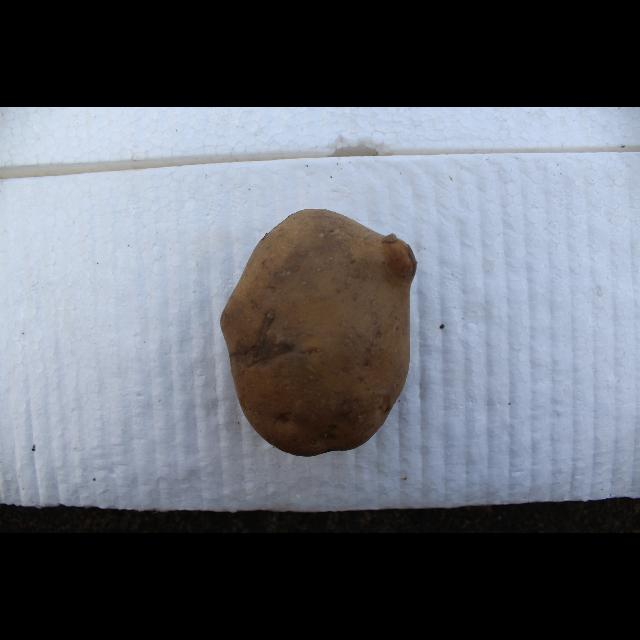Diseased-fungal potato: (218, 202, 420, 460)
